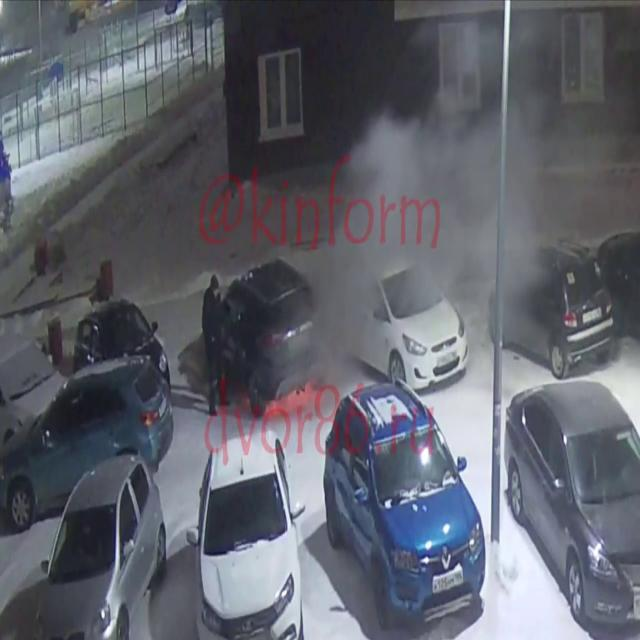Smoke: (322, 3, 640, 325)
